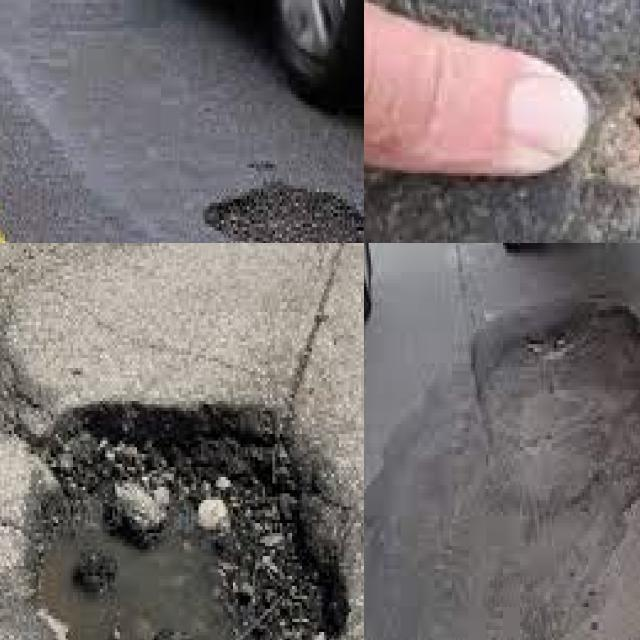Pothole: (34, 401, 351, 640), (471, 302, 640, 462), (203, 185, 364, 243), (571, 68, 640, 189)
